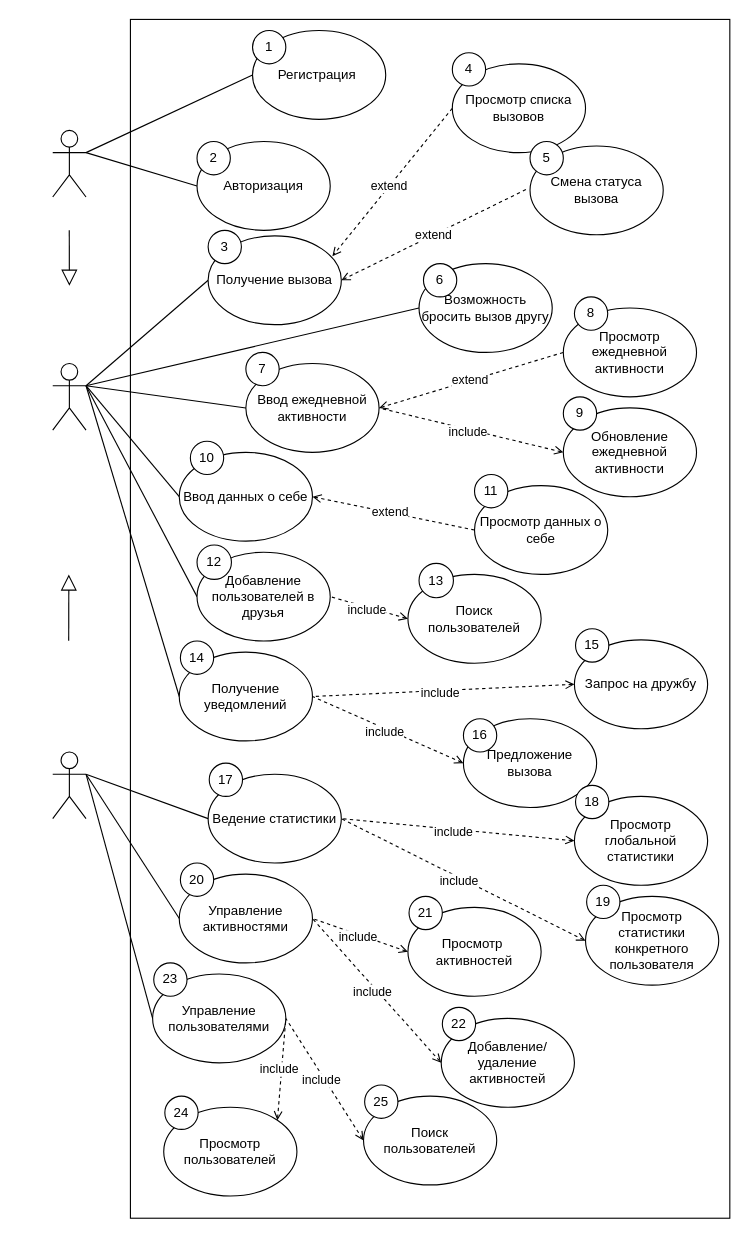
The diagram is 749 pixels wide and 1238 high, and some of its shapes have lost their labels. The shapes that lost their labels are listed below. From the top down, each one's centre as x and y in pixels, then its label:
At point (69, 163): "Гость".
At point (69, 396): "Пользователь".
At point (69, 785): "Администратор".
